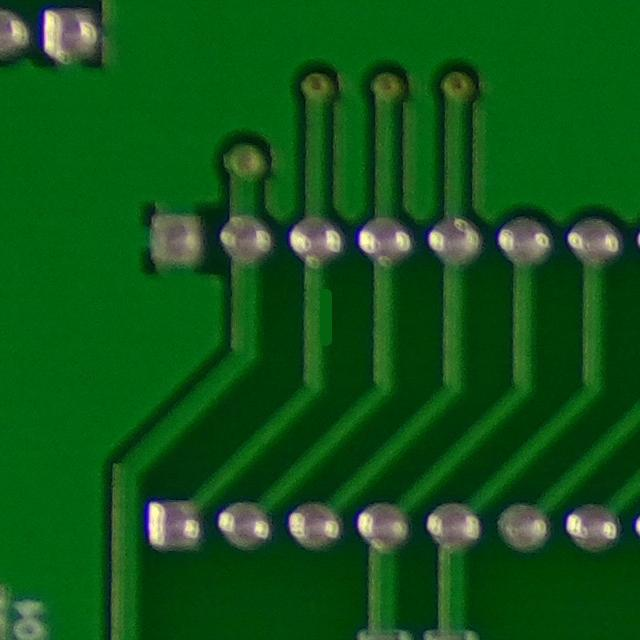spur: (300, 281, 341, 360)
